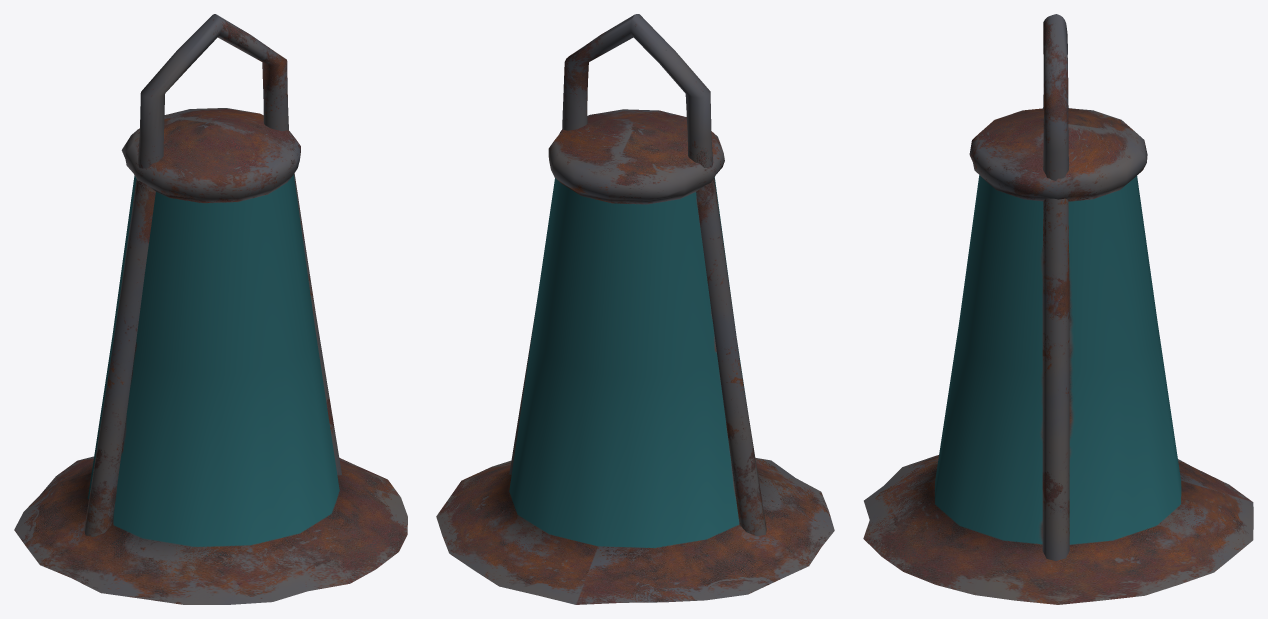
Rendered from farolillo_lvl2.fbx.
3 renders of one model, left to right at view 1: azimuth 30°, elevation 25°; view 2: azimuth 150°, elevation 25°; view 3: azimuth 270°, elevation 25°, orthographic.
Visible parts, largest first — view 1: Group15795, Group15796, Group15798, Group15797; view 2: Group15795, Group15796, Group15798; view 3: Group15795, Group15797, Group15798.
Part boxes in pixels (box(x1,y1,x2,y2)): Group15795: box(14, 108, 407, 604); Group15796: box(84, 179, 155, 536); Group15798: box(138, 14, 288, 168); Group15797: box(294, 173, 341, 475); Group15795: box(436, 109, 834, 604); Group15796: box(696, 178, 766, 536); Group15798: box(562, 14, 712, 167); Group15795: box(863, 108, 1253, 604); Group15797: box(1042, 198, 1069, 560); Group15798: box(1043, 14, 1068, 180).
Bounding box in the file's own units: 459 × 696 × 447.
